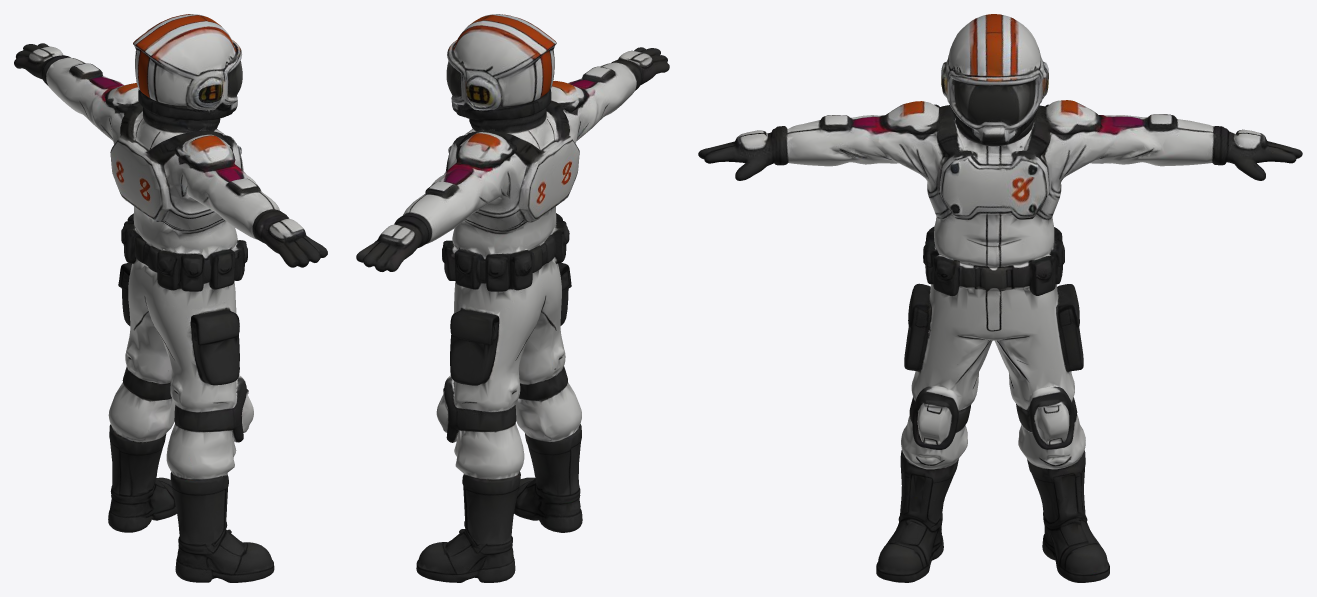
The model's file is n2_story_grunt.b12869cd.glb.
The picture shows the model from 3 angles, left to right: view 1: azimuth 30°, elevation 25°; view 2: azimuth 150°, elevation 25°; view 3: azimuth 270°, elevation 25°; orthographic projection. The views are drawn at different scales.
Parts seen in each view (by area): view 1: tripo_node_73294493-4355-4590-9d09-638c1d2d610c; view 2: tripo_node_73294493-4355-4590-9d09-638c1d2d610c; view 3: tripo_node_73294493-4355-4590-9d09-638c1d2d610c.
Boxes of the visible parts, <box> form: tripo_node_73294493-4355-4590-9d09-638c1d2d610c: <box>14,14,327,582</box>; tripo_node_73294493-4355-4590-9d09-638c1d2d610c: <box>356,14,669,582</box>; tripo_node_73294493-4355-4590-9d09-638c1d2d610c: <box>698,14,1302,582</box>.
Size of the model in its own units: 0.2014 by 0.9934 by 0.9998.
1 material, 1 textured.
